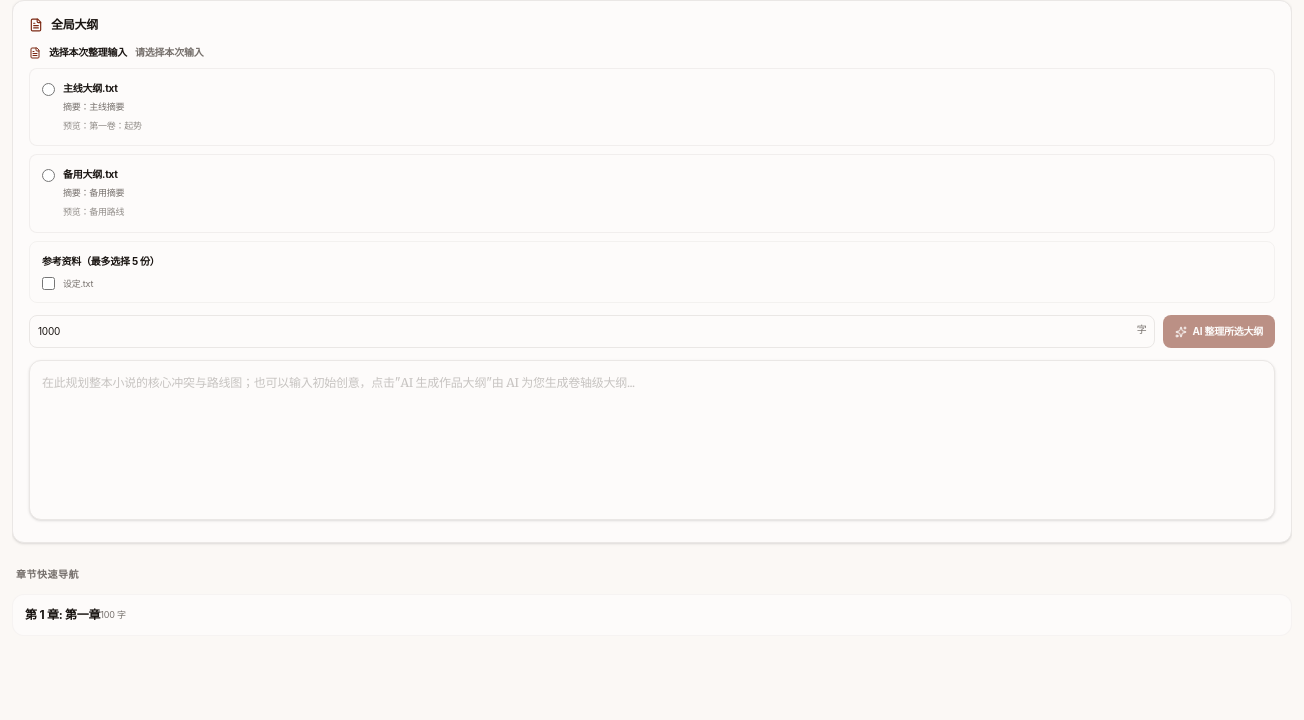
Test: OutlineTab - Plan 135 Behavior Tests › button enabled with expectedWordCount
Click the radio button labelled "主线大纲.txt 摘要：主线摘要 预览：第一卷：起势". click: (48, 90)
box: [42,83,55,96]
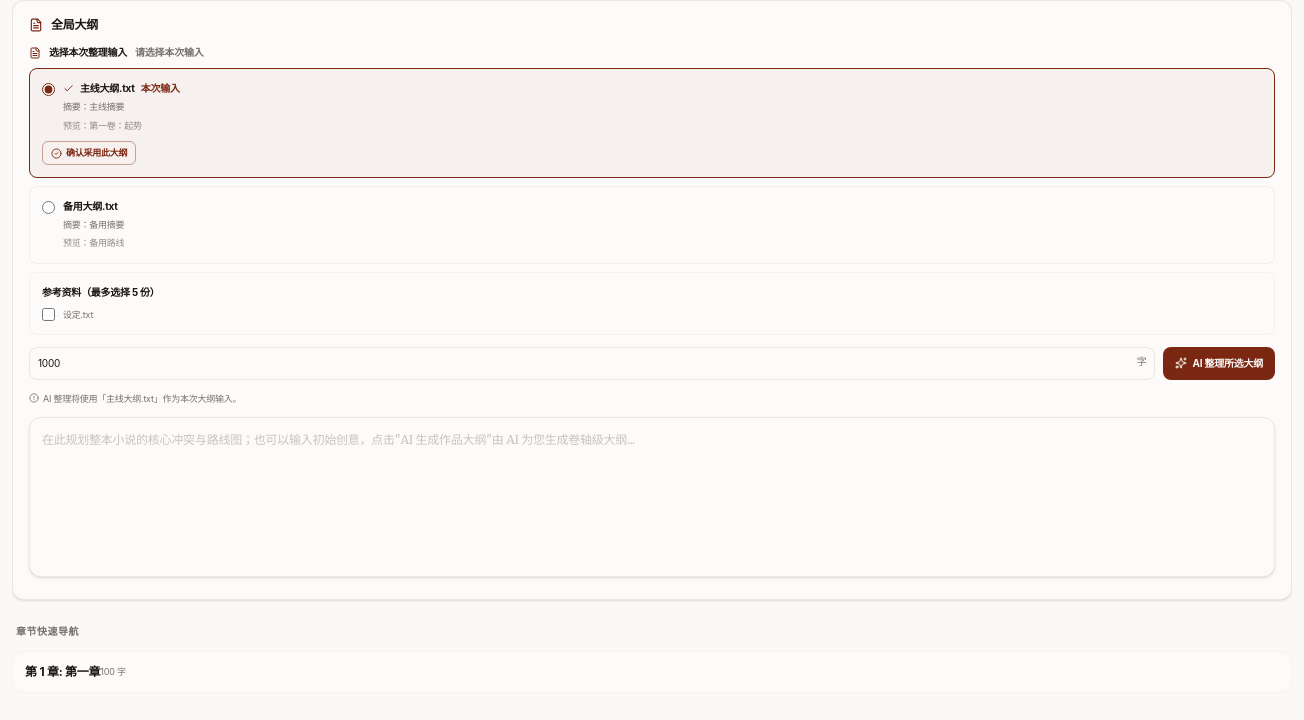
Check: the button "AI 整理所选大纲" is enabled, box [1162,346,1275,380]
